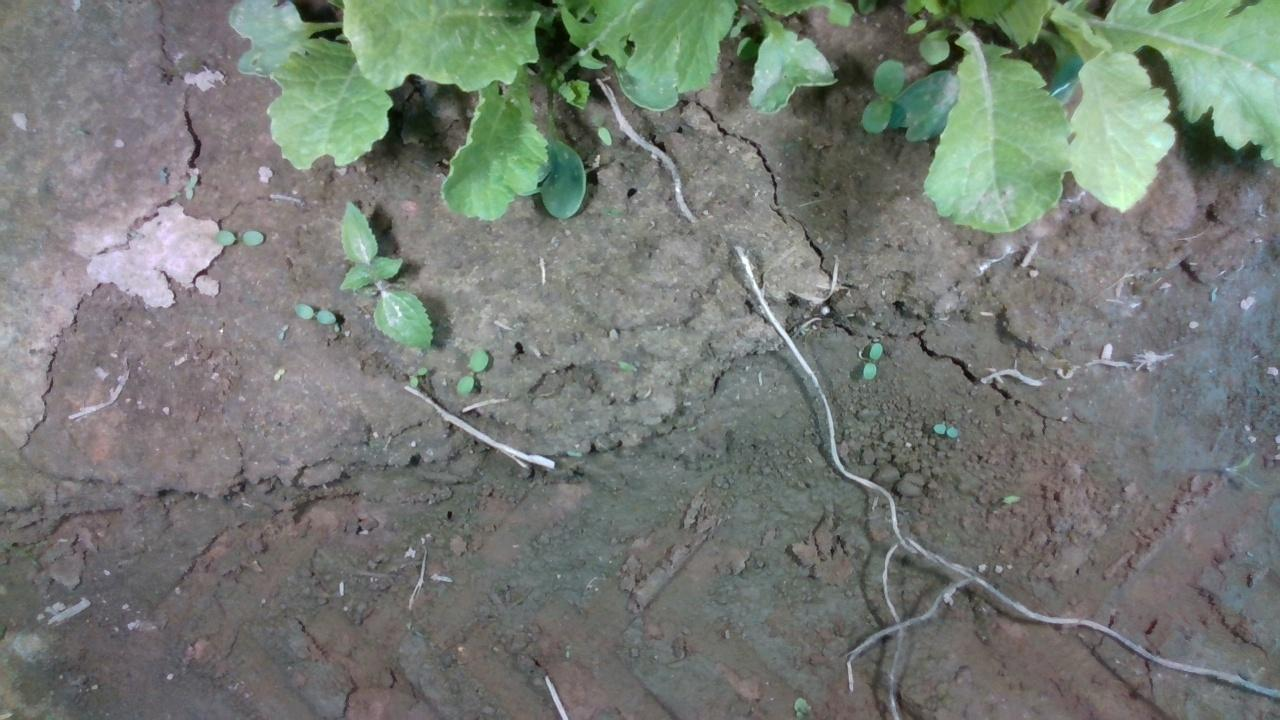weed: (209, 228, 266, 247)
